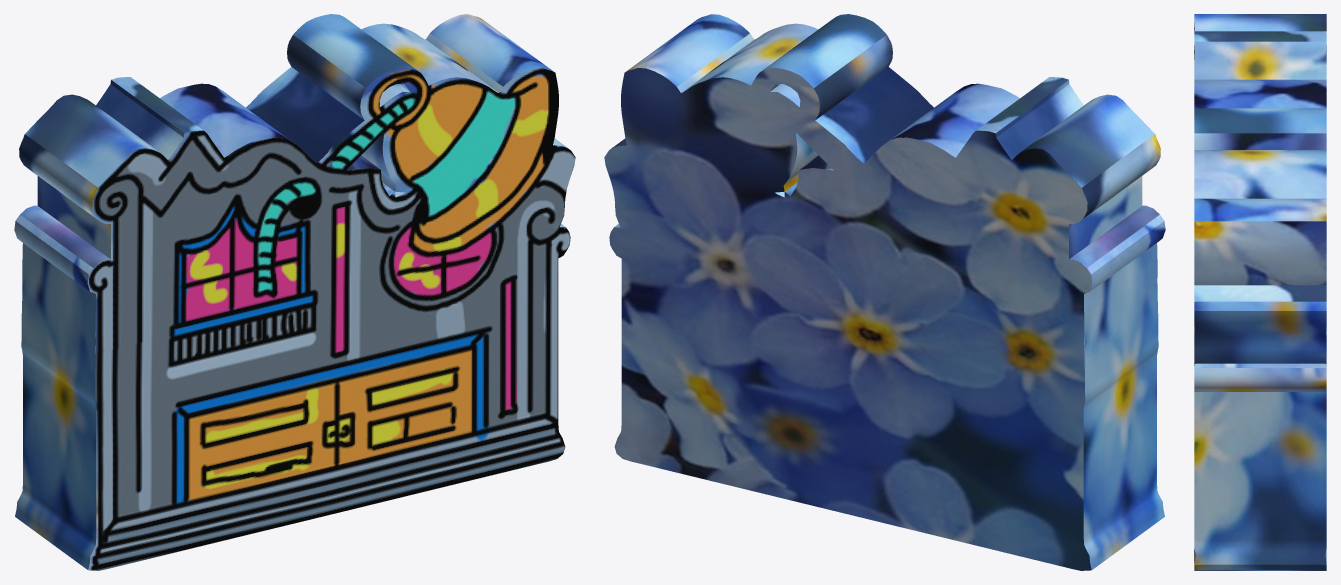
Rendered from MiddleSchoolTest.fbx.
3 views of the same model, side by side, from view 1: azimuth 30°, elevation 25°; view 2: azimuth 150°, elevation 25°; view 3: azimuth 270°, elevation 25° (orthographic). The views are drawn at different scales.
Visible parts, largest first — view 1: MiddleSchoolTest; view 2: MiddleSchoolTest; view 3: MiddleSchoolTest.
Part boxes in pixels (<box>): MiddleSchoolTest: <box>14,14,575,570</box>; MiddleSchoolTest: <box>604,14,1165,570</box>; MiddleSchoolTest: <box>1194,14,1326,570</box>.
Size of the model in its own units: 712 by 599 by 186.
